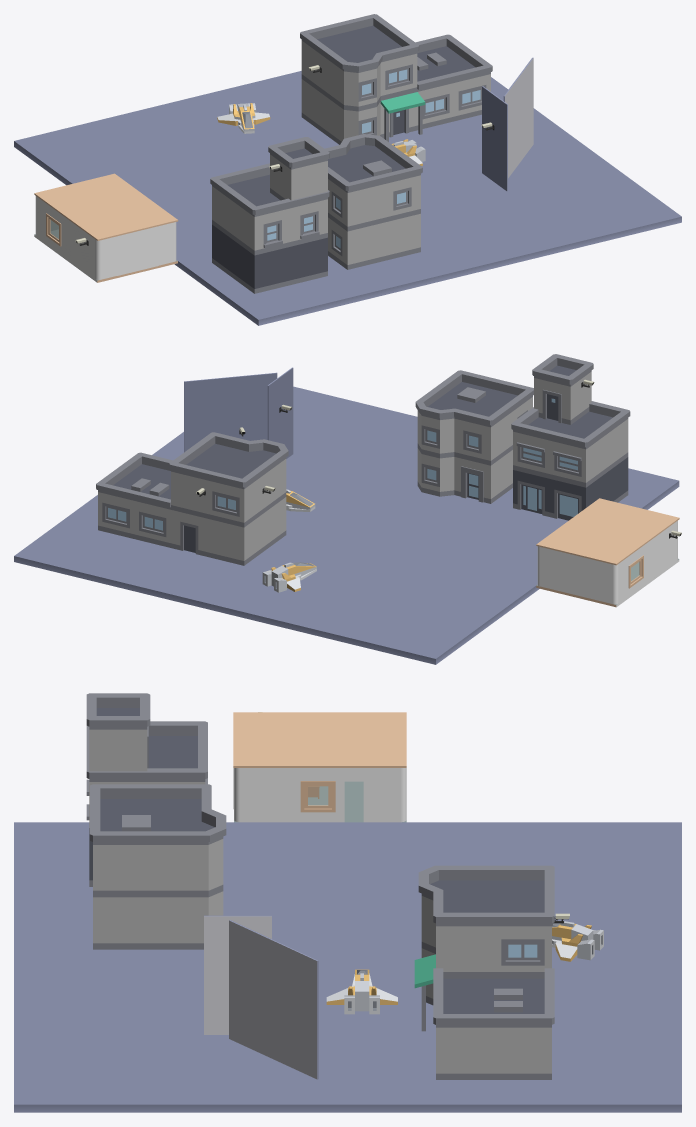
Rendered from democamz11.glb.
3 renders of one model, top to bottom at view 1: azimuth 30°, elevation 25°; view 2: azimuth 150°, elevation 25°; view 3: azimuth 270°, elevation 25°, orthographic. The views are drawn at different scales.
Visible parts, largest first — view 1: floor, small_buildingE, small_buildingF, small_buildingB, floorFull(Clone), floor.001, floor.002, wallCornerRond(Clone), wall(Clone).001, wallWindow(Clone).001, craft_speederA, wallCornerRond(Clone).005 (+3 smaller); view 2: floor, small_buildingE, small_buildingF, small_buildingB, floor.001, floorFull(Clone), wallCornerRond(Clone).002, floor.002, craft_speederA, wallWindow(Clone).001, wallCornerRond(Clone), wallCornerRond(Clone).007 (+2 smaller); view 3: floor, small_buildingE, small_buildingB, floor.001, small_buildingF, floorFull(Clone), floor.002, wallWindow(Clone), wallCornerRond(Clone).005, wallCornerRond(Clone).007, craft_speederA.001, craft_speederA (+2 smaller).
Part boxes in pixels (<box>): floor: <box>14,71,681,325</box>; small_buildingE: <box>300,14,492,144</box>; small_buildingF: <box>210,137,329,293</box>; small_buildingB: <box>325,134,422,269</box>; floorFull(Clone): <box>34,173,178,240</box>; floor.001: <box>503,57,533,178</box>; floor.002: <box>482,86,507,191</box>; wallCornerRond(Clone): <box>72,223,116,279</box>; wall(Clone).001: <box>117,226,158,275</box>; wallWindow(Clone).001: <box>44,202,72,261</box>; craft_speederA: <box>217,103,270,133</box>; wallCornerRond(Clone).005: <box>158,222,176,265</box>; floor: <box>14,386,679,664</box>; small_buildingE: <box>96,432,288,565</box>; small_buildingF: <box>511,354,630,520</box>; small_buildingB: <box>415,370,533,503</box>; floor.001: <box>184,372,277,452</box>; floorFull(Clone): <box>536,498,679,565</box>; wallCornerRond(Clone).002: <box>555,551,626,604</box>; floor.002: <box>267,367,293,458</box>; craft_speederA: <box>262,562,316,592</box>; wallWindow(Clone).001: <box>626,538,654,597</box>; wallCornerRond(Clone): <box>654,520,677,576</box>; wallCornerRond(Clone).007: <box>537,546,555,589</box>; floor: <box>14,822,681,1112</box>; small_buildingE: <box>414,865,554,1079</box>; small_buildingB: <box>90,784,226,949</box>; floor.001: <box>229,920,318,1079</box>; small_buildingF: <box>86,693,207,886</box>; floorFull(Clone): <box>233,712,406,767</box>; floor.002: <box>204,915,271,1034</box>; wallWindow(Clone): <box>282,768,344,822</box>; wallCornerRond(Clone).005: <box>234,768,282,822</box>; wallCornerRond(Clone).007: <box>363,768,406,822</box>; craft_speederA.001: <box>326,969,397,1014</box>; craft_speederA: <box>552,921,603,961</box>.
Size of the model in its own units: 73.02 by 17.45 by 60.
52 materials, 3 textured.
